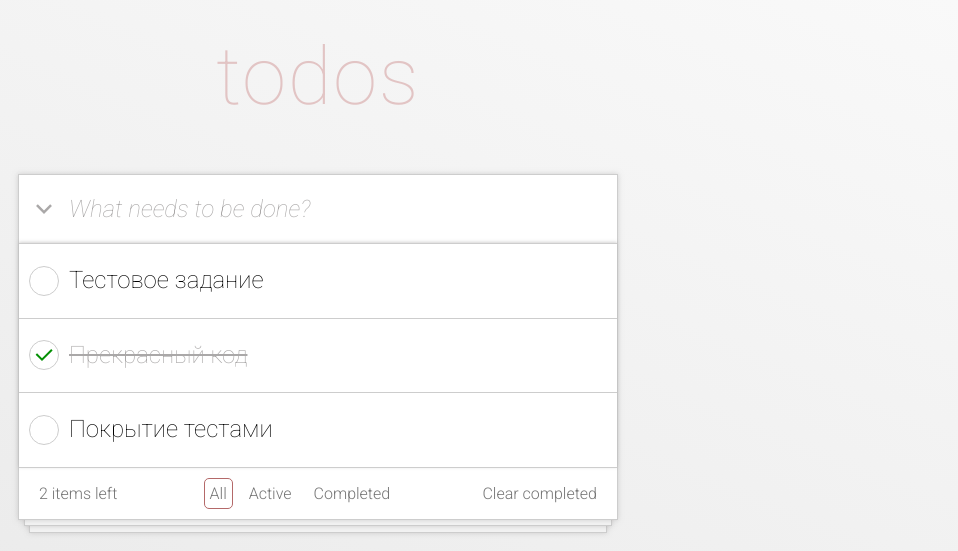
Test: filter tests › filter active
The width and height of the screenshot is (958, 551).
Expected: the text "2 items left" is shown, x1=39 y1=484 x2=117 y2=503
Click the button "Active" at (270, 493), box x1=243 y1=478 x2=298 y2=509
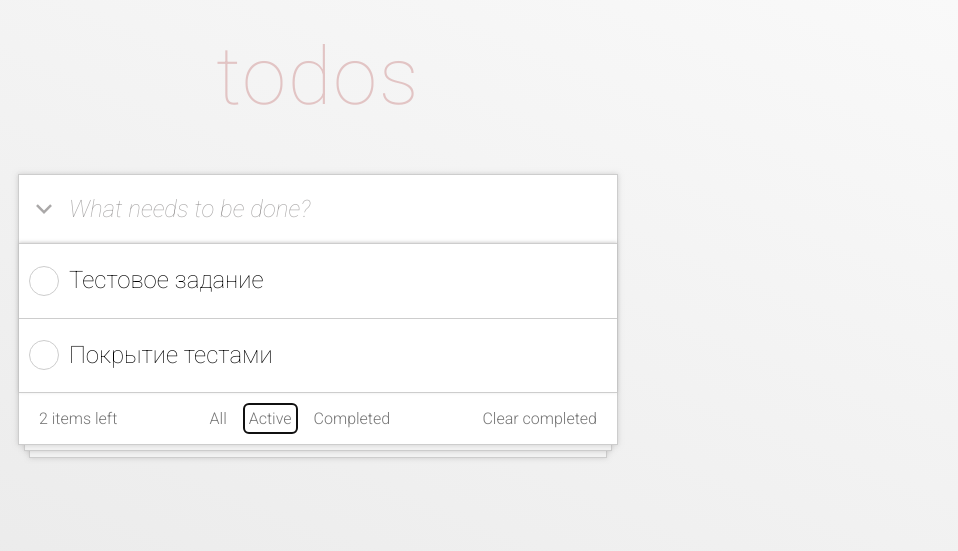
Expected: the number of elements with class "todo" is 2, x1=19 y1=243 x2=617 y2=318; x1=19 y1=318 x2=617 y2=392
